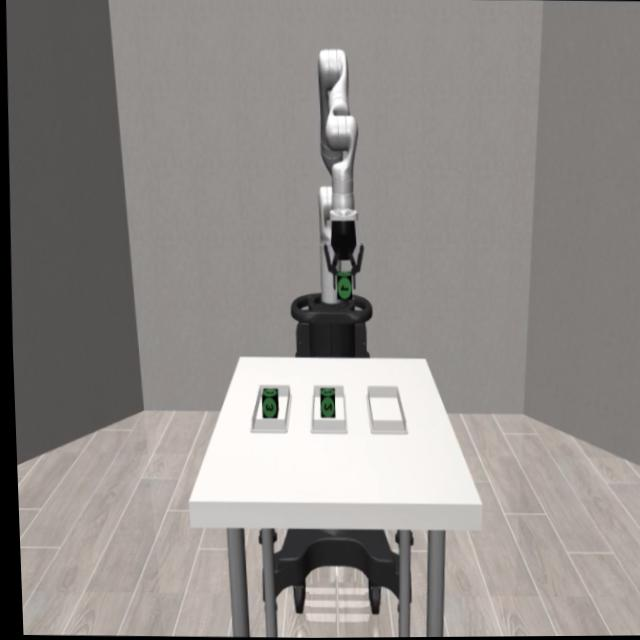cube1: (334, 273, 350, 299)
cube2: (316, 388, 333, 419)
cube3: (257, 387, 278, 418)
